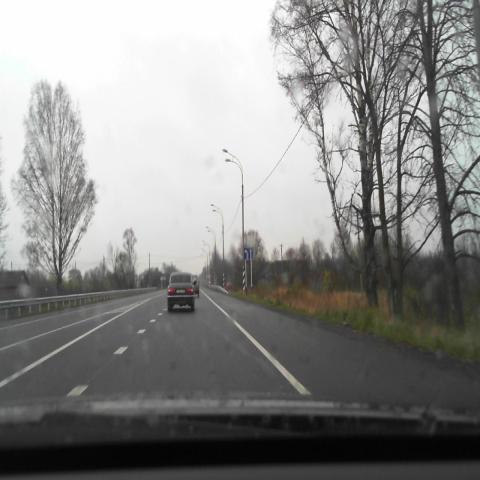5_15_2_2: (243, 247, 253, 260)
